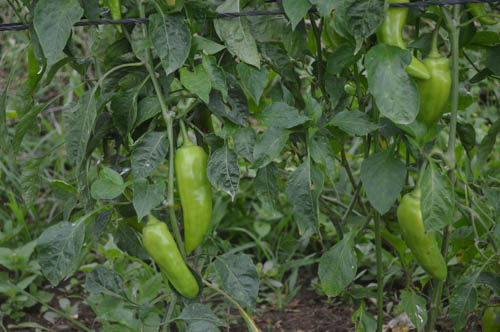ChiliPepper: (140, 222, 202, 303), (399, 195, 452, 285), (170, 144, 213, 254), (381, 9, 431, 79), (410, 59, 453, 130)
